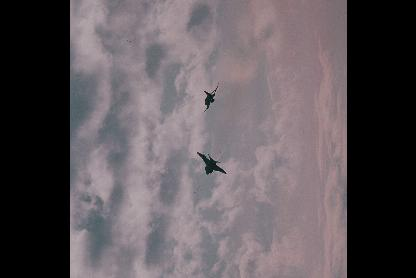F35: (195, 152, 225, 176), (200, 83, 218, 115)
